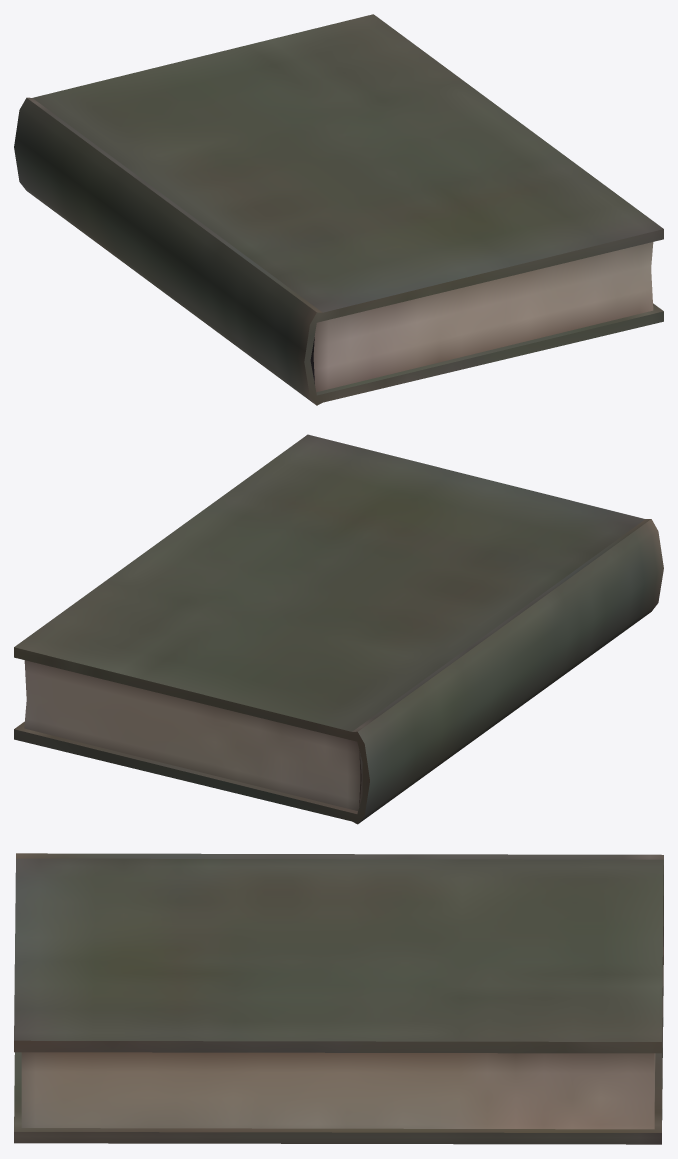
Rendered from book-single-d.lod1.glb.
3 renders of one model, top to bottom at view 1: azimuth 30°, elevation 25°; view 2: azimuth 150°, elevation 25°; view 3: azimuth 270°, elevation 25°, orthographic. The views are drawn at different scales.
Parts seen in each view (by area): view 1: book-single-d; view 2: book-single-d; view 3: book-single-d.
Boxes of the visible parts, bbox=[...] form: book-single-d: bbox=[14, 14, 663, 405]; book-single-d: bbox=[14, 434, 663, 824]; book-single-d: bbox=[14, 853, 663, 1144].
Size of the model in its own units: 0.1672 by 0.0413 by 0.2356.
Materials: 1 (1 with a texture image).
